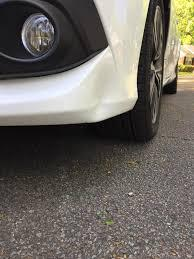front-bumper-dent: (0, 2, 154, 139)
